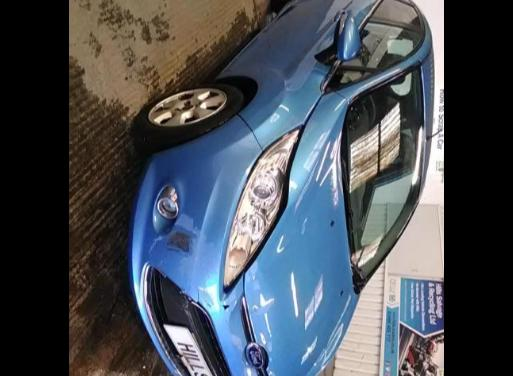Broken part: (224, 94, 324, 296), (142, 262, 233, 376), (256, 342, 272, 376)
Flaking: (174, 215, 218, 306), (148, 236, 166, 254)
Paint chip: (222, 304, 230, 310)
Scratch: (166, 230, 190, 254), (166, 246, 180, 252), (196, 288, 200, 302)
